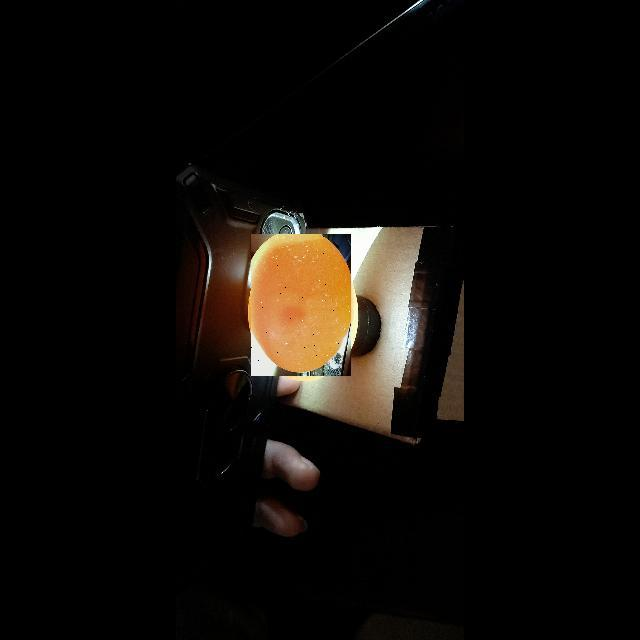Fertile: (251, 234, 351, 376)
